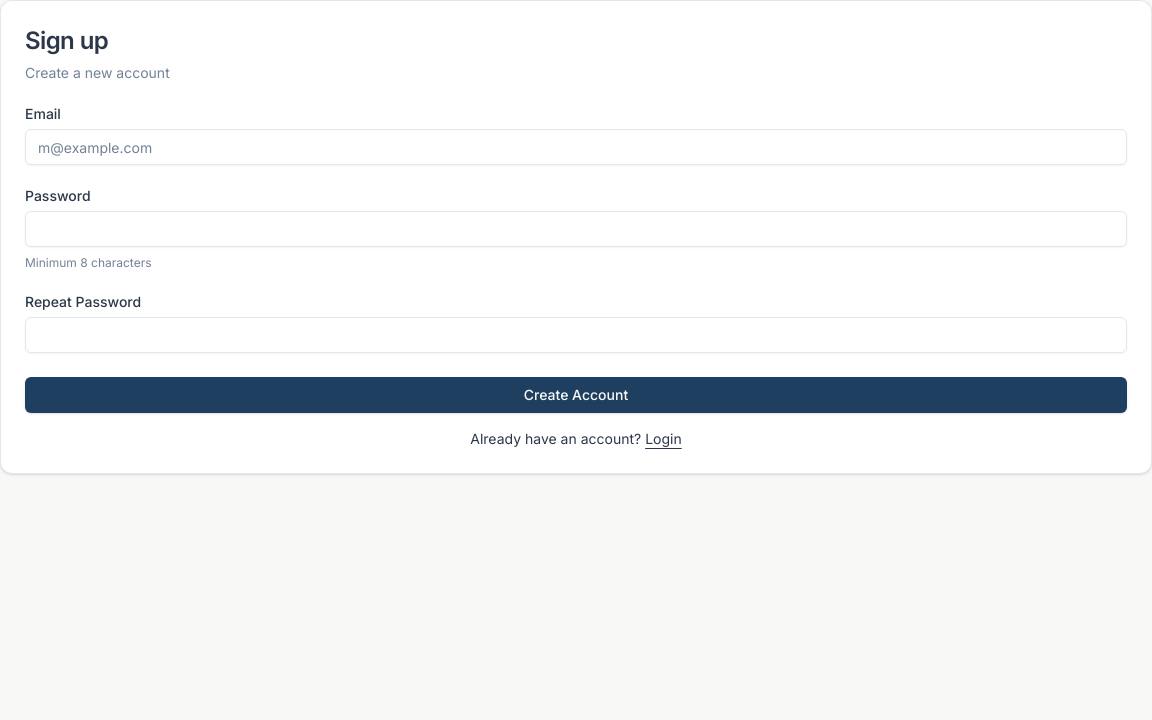
SignUpForm › password validation › shows error when passwords do not match
Type "test@example.com" into the field labelled "Email" at (576, 147), box left=25, top=129, right=1127, bottom=165
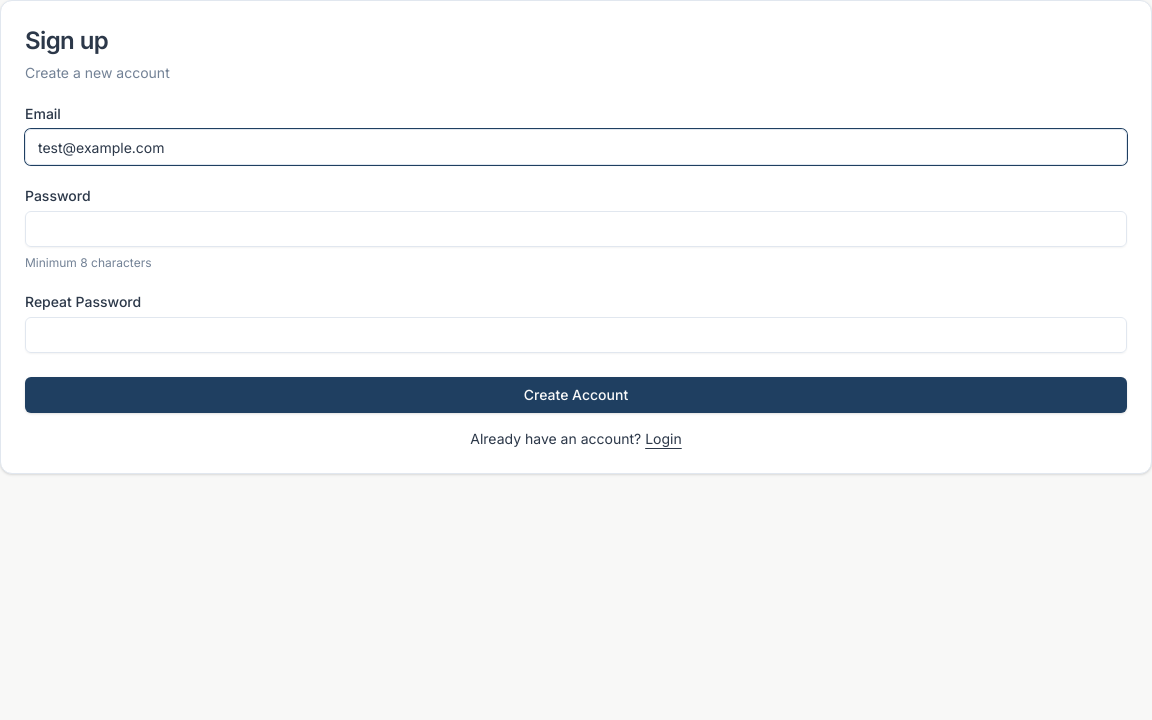
Type "password123" into the password field labelled "Password" at (576, 229), box left=25, top=211, right=1127, bottom=247
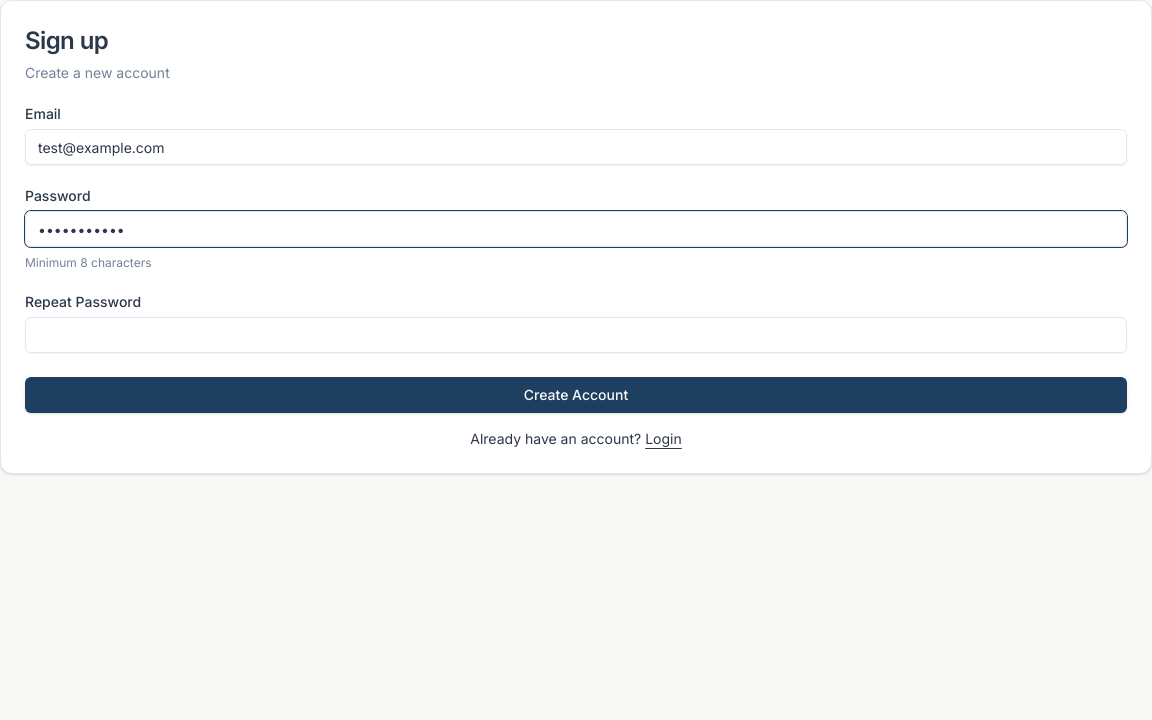
Type "different123" into the password field labelled "Repeat Password" at (576, 335), box left=25, top=317, right=1127, bottom=353
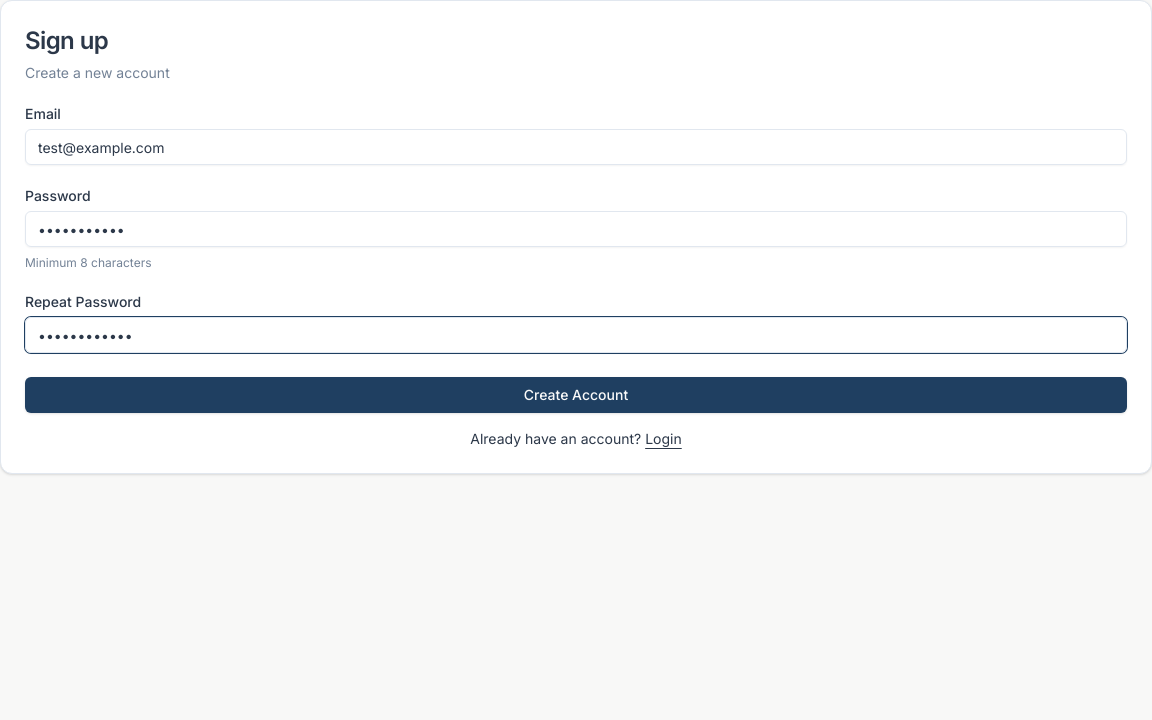
Click the button "Create Account" at (576, 395), box left=25, top=377, right=1127, bottom=413
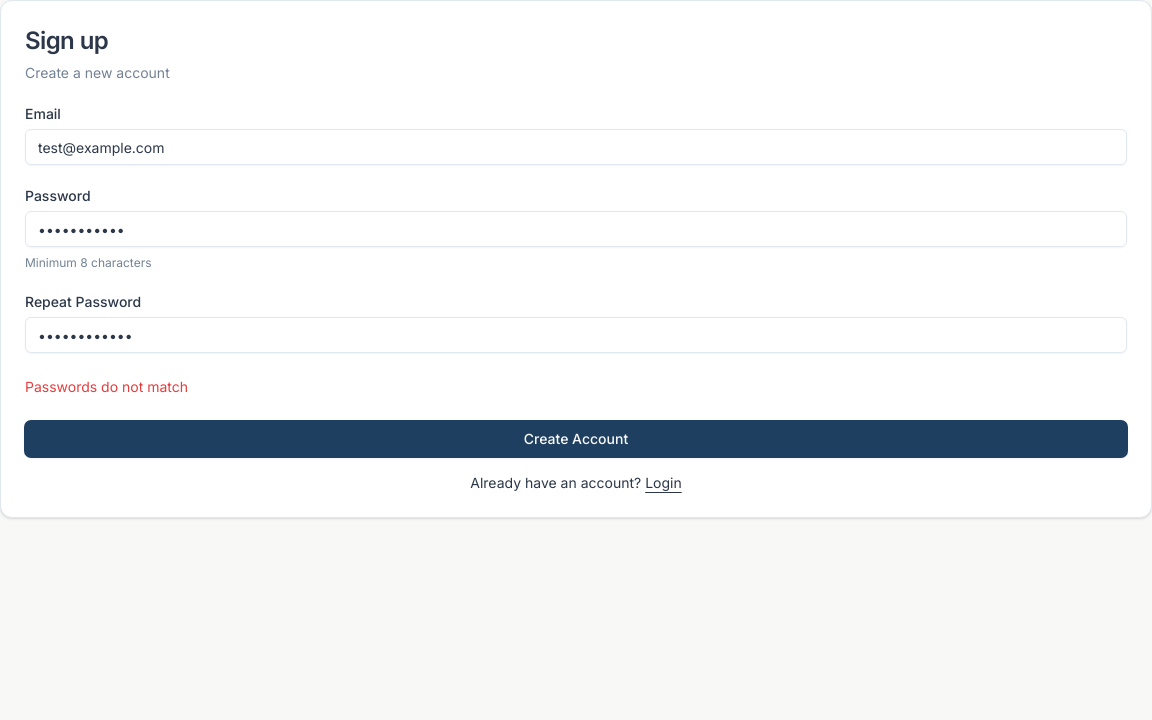
Now the text "Passwords do not match" is shown, box left=25, top=378, right=188, bottom=395
